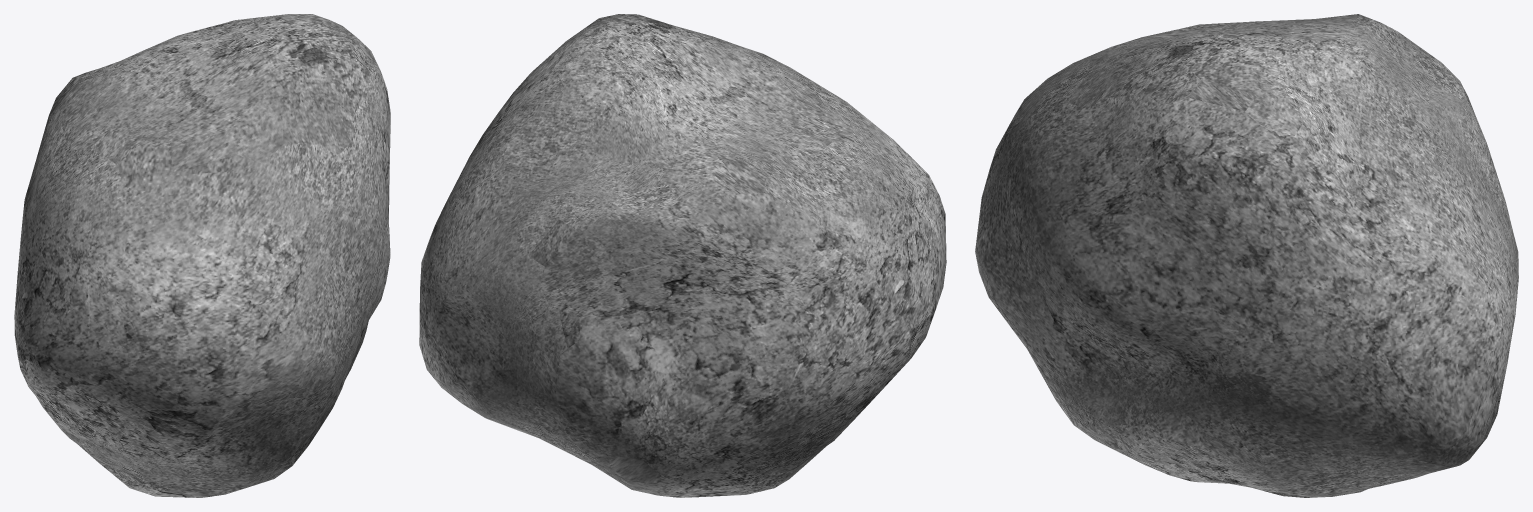
Rendered from ast_example_v1.FBX.
3 views of the same model, side by side, from view 1: azimuth 30°, elevation 25°; view 2: azimuth 150°, elevation 25°; view 3: azimuth 270°, elevation 25° (orthographic). The views are drawn at different scales.
Parts seen in each view (by area): view 1: GeoSphere07; view 2: GeoSphere07; view 3: GeoSphere07.
Part boxes in pixels (x1,y1,x2,y2): GeoSphere07: (14,14,390,497); GeoSphere07: (419,14,946,497); GeoSphere07: (975,14,1518,497).
Size of the model in its own units: 50.6 by 49.8 by 49.36.
1 material, 1 textured.
